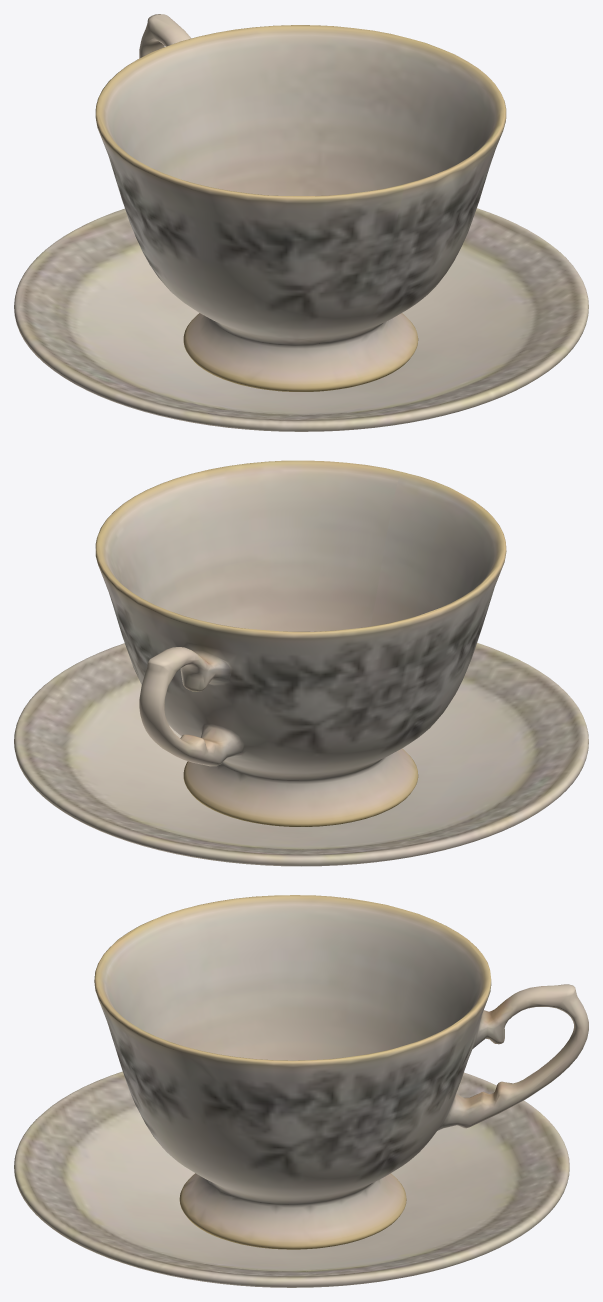
Rendered from teacup.m.glb.
3 renders of one model, top to bottom at view 1: azimuth 30°, elevation 25°; view 2: azimuth 150°, elevation 25°; view 3: azimuth 270°, elevation 25°, orthographic. The views are drawn at different scales.
Visible parts, largest first — view 1: tea_cup, tea_saucer; view 2: tea_cup, tea_saucer; view 3: tea_cup, tea_saucer.
Part boxes in pixels (x1,y1,x2,y2): tea_cup: (95, 14, 506, 391); tea_saucer: (14, 208, 588, 431); tea_cup: (95, 460, 506, 826); tea_saucer: (14, 643, 588, 866); tea_cup: (94, 895, 588, 1249); tea_saucer: (14, 1071, 569, 1287).
Size of the model in its own units: 0.1486 by 0.0704 by 0.1537.
Materials: 2 (2 with a texture image).
